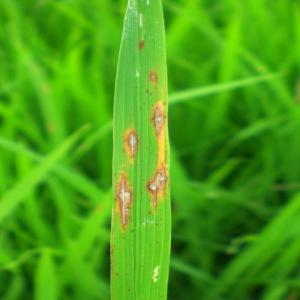Rice_Blast: (103, 173, 138, 233), (142, 153, 176, 210), (139, 99, 181, 139), (116, 124, 144, 164), (127, 28, 152, 59), (142, 61, 163, 90)
